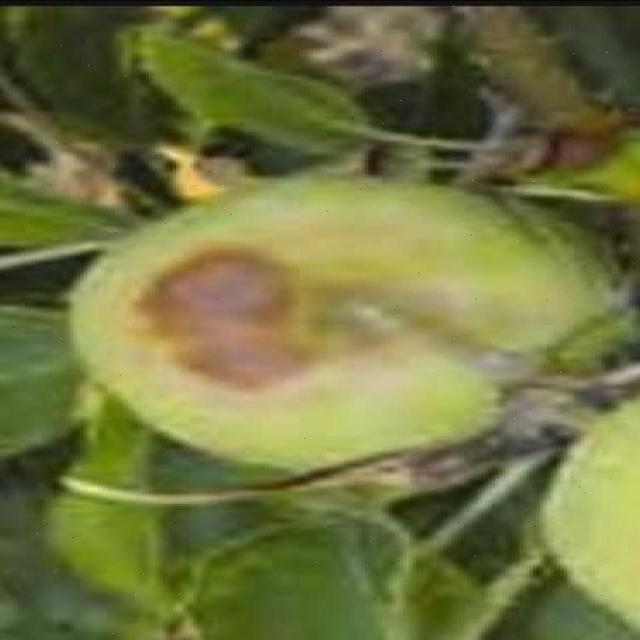Sunscald Fruit: (84, 157, 244, 272)
